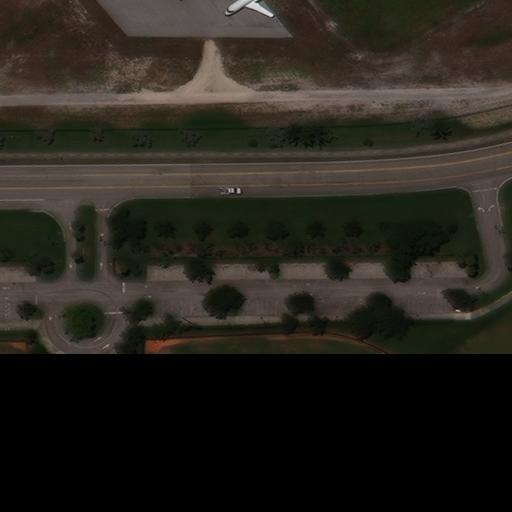Medium Civil Transport: (225, 0, 274, 19)
